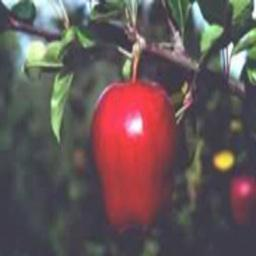apple: (86, 75, 180, 233)
